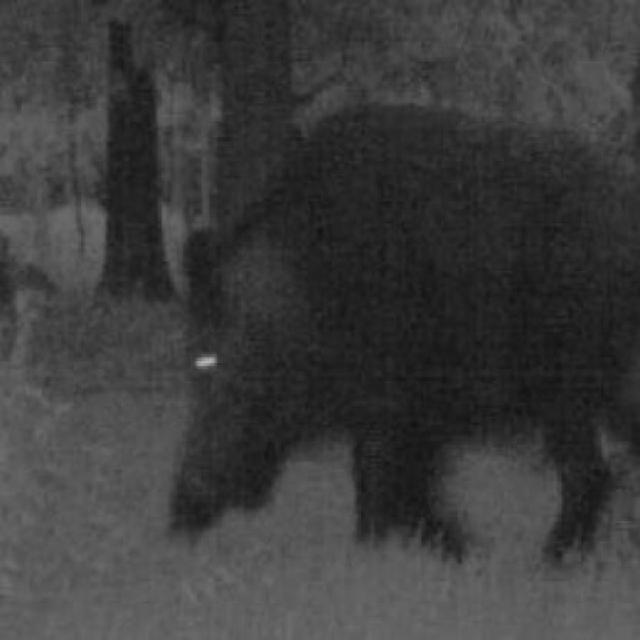WildBoar: (160, 50, 638, 559)
